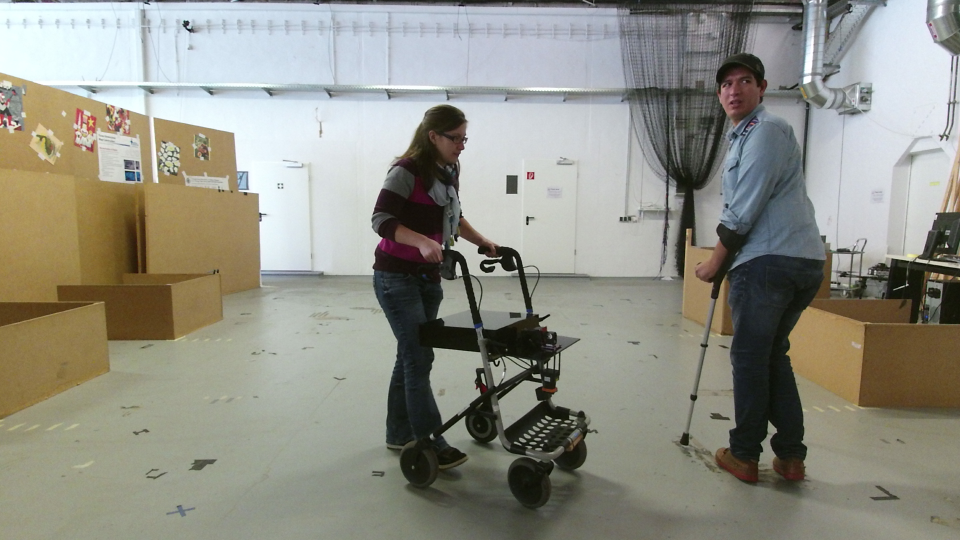crutches: (668, 52, 832, 487)
